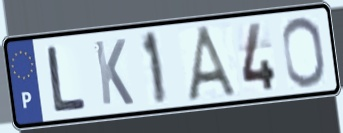1: (139, 29, 170, 109)
4: (240, 20, 278, 94)
A: (185, 23, 243, 103)
K: (92, 37, 136, 108)
L: (44, 44, 89, 115)
O: (280, 14, 329, 90)
